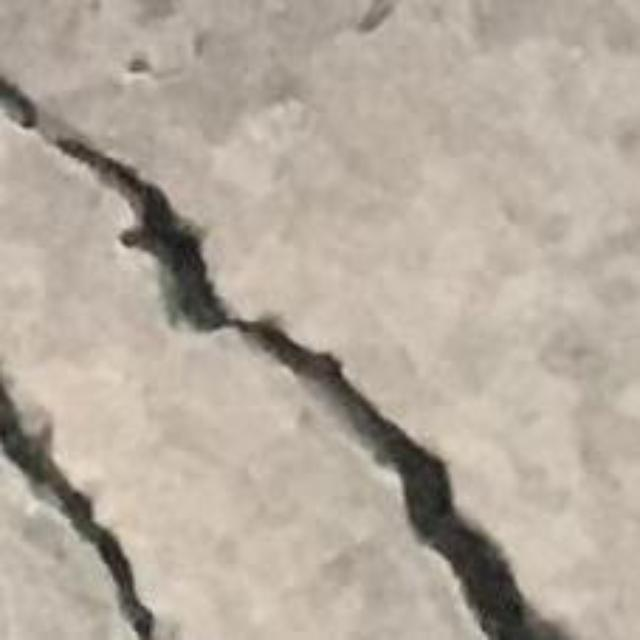crack: (0, 77, 566, 639)
